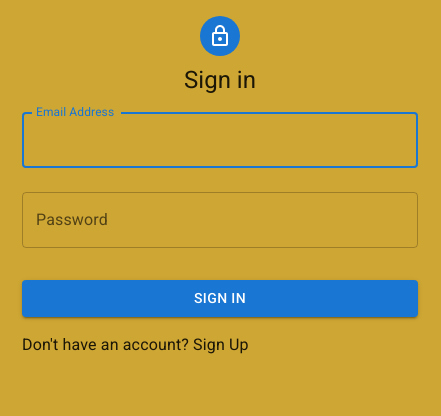
Test: SignIn Component › shows an error for invalid email format
Type "invalid-email" into the field labelled "Email Address".
click(220, 140); type("invalid-email")  # box [22,112,418,168]
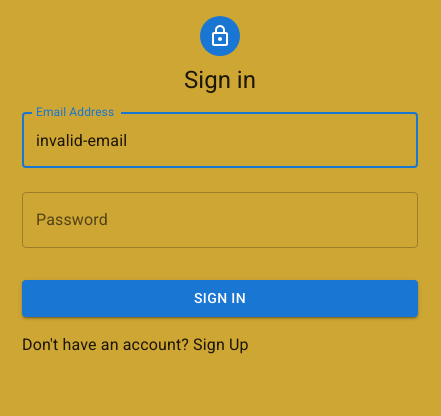
Click the button "Sign In".
click(220, 298)  # box [22,280,418,316]
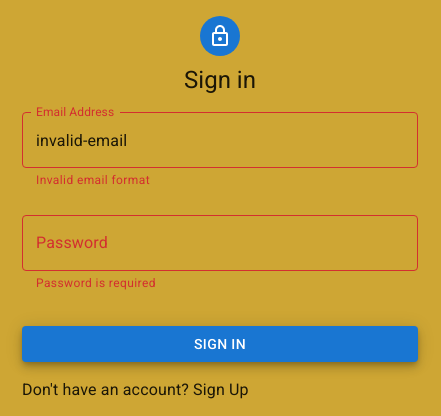
Expected: the text "Invalid email format" is shown, [36,173,150,187]
